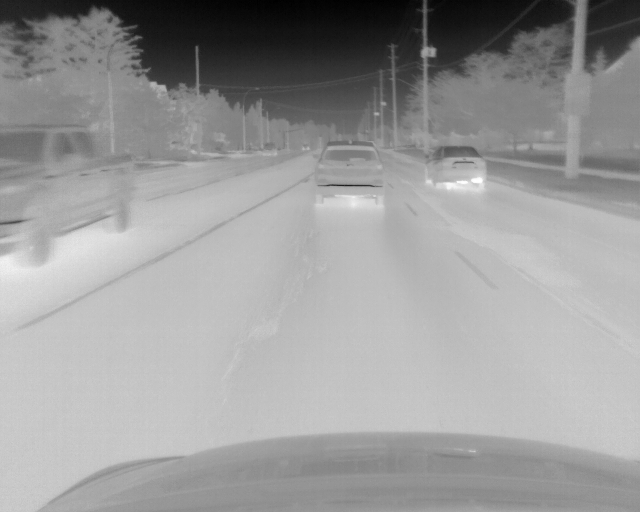car: (1, 126, 135, 271), (313, 139, 388, 208), (422, 146, 484, 191)
